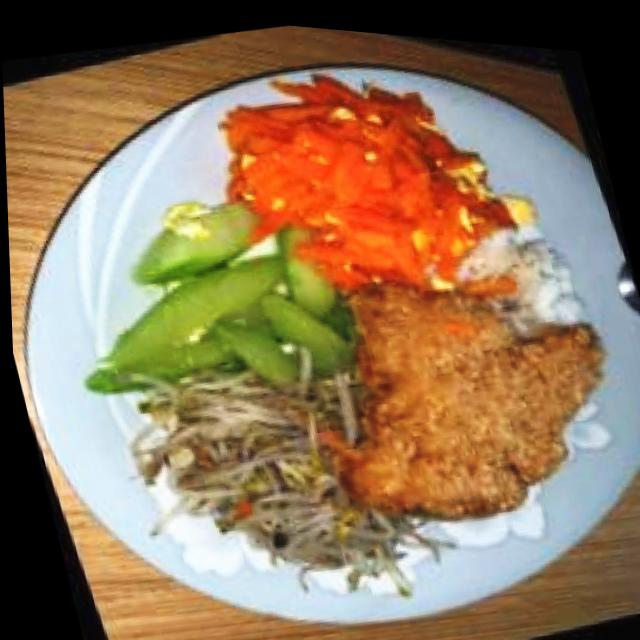carrot_eggs: (197, 28, 534, 347)
fried_chicken: (291, 224, 640, 568)
mung_bean_sprouts: (139, 370, 362, 600)
rice: (490, 212, 584, 335)
